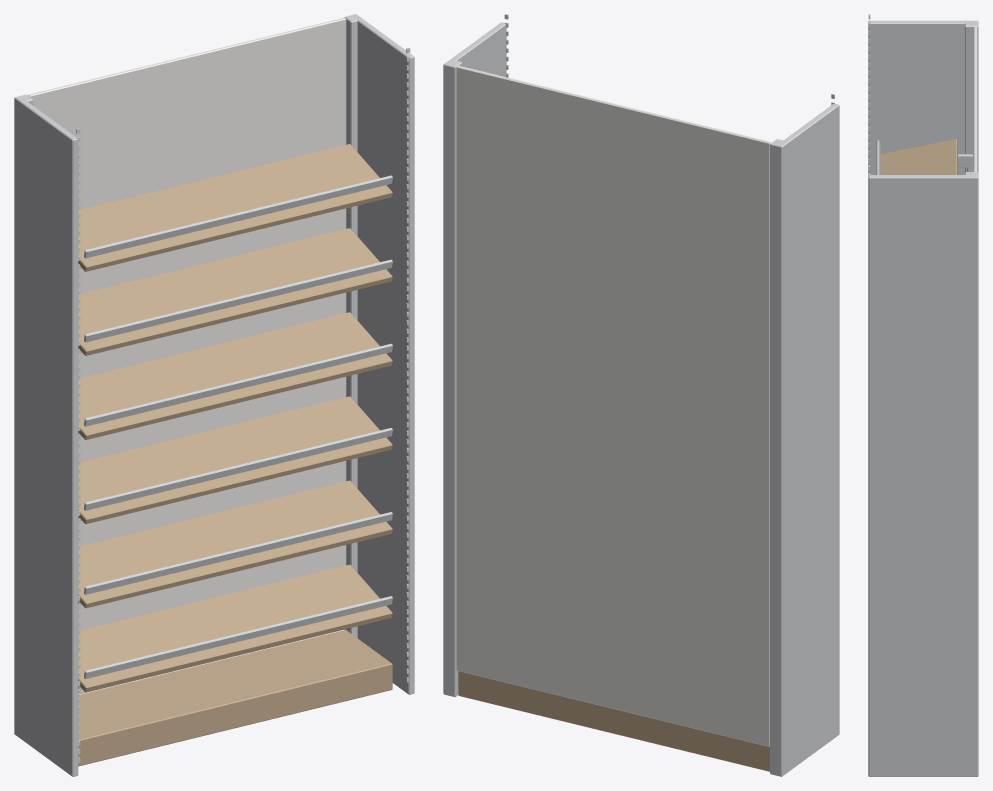
File: SM_Retail_25193_PerimeterWallBayShoeShelves.fbx
3 renders of one model, left to right at view 1: azimuth 30°, elevation 25°; view 2: azimuth 150°, elevation 25°; view 3: azimuth 270°, elevation 25°, orthographic. The views are drawn at different scales.
Parts seen in each view (by area): view 1: SM_Retail_25193_PerimeterWallBayShoeShelves; view 2: SM_Retail_25193_PerimeterWallBayShoeShelves; view 3: SM_Retail_25193_PerimeterWallBayShoeShelves.
Boxes of the visible parts, x1,y1,x2,y2 form: SM_Retail_25193_PerimeterWallBayShoeShelves: (14,14,414,776); SM_Retail_25193_PerimeterWallBayShoeShelves: (443,14,839,776); SM_Retail_25193_PerimeterWallBayShoeShelves: (868,14,978,776).
Bounding box in the file's own units: 135 × 39.99 × 243.
